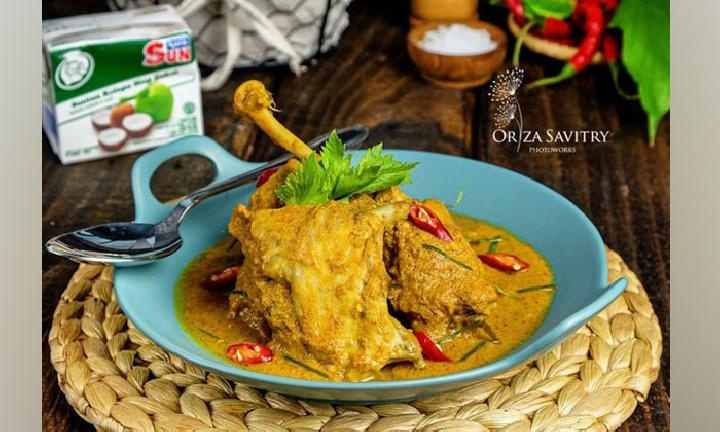gulai_ayam: (168, 177, 575, 384)
